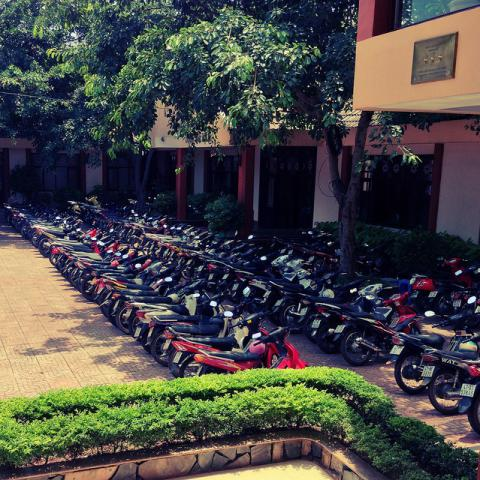motorcycle: (1, 177, 479, 350), (386, 296, 480, 396), (151, 288, 259, 368), (168, 306, 280, 379), (179, 323, 309, 378), (332, 289, 422, 367), (312, 282, 398, 354), (228, 237, 306, 303), (123, 272, 200, 337), (421, 331, 479, 416), (144, 292, 226, 352), (268, 271, 342, 330), (66, 244, 130, 289), (39, 228, 81, 256)
